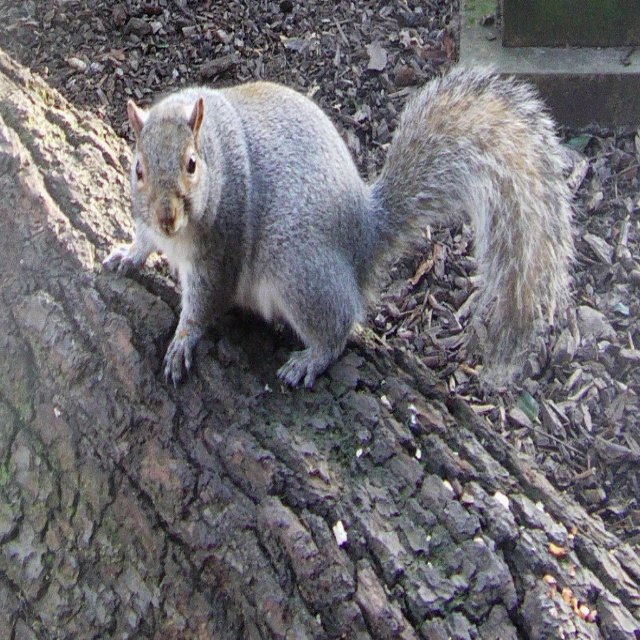Squirrel: (102, 52, 598, 399)
